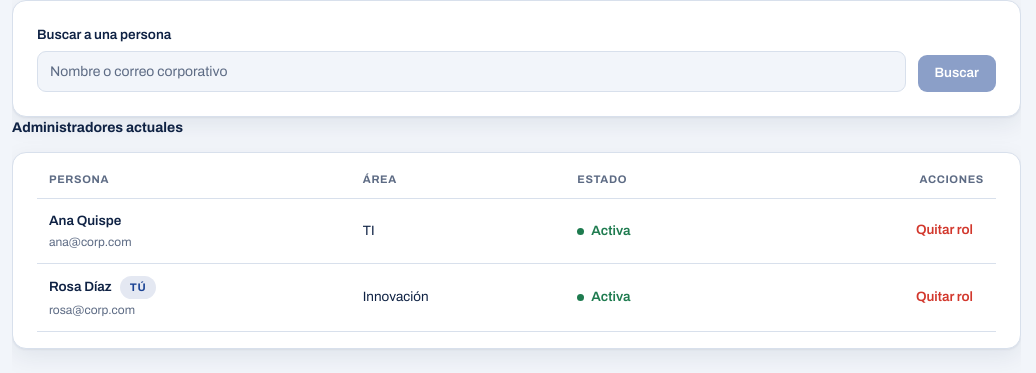
Test: <AdministradoresAdmin /> — la revocación › pregunta antes de quitar el rol
Click the button with aria-label "quitar el rol de administradora a Ana" at {"x": 944, "y": 231}, box [905, 212, 984, 249]
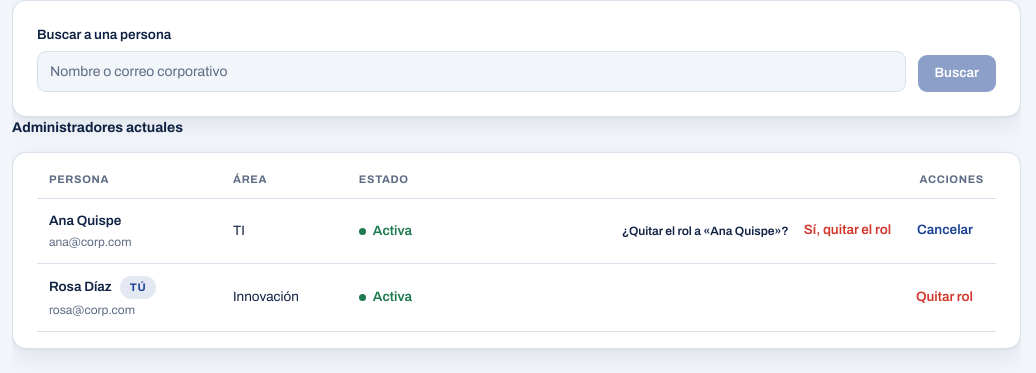
Expected: the text "¿Quitar el rol a «Ana Quispe»?" is shown, [622, 222, 789, 240]
